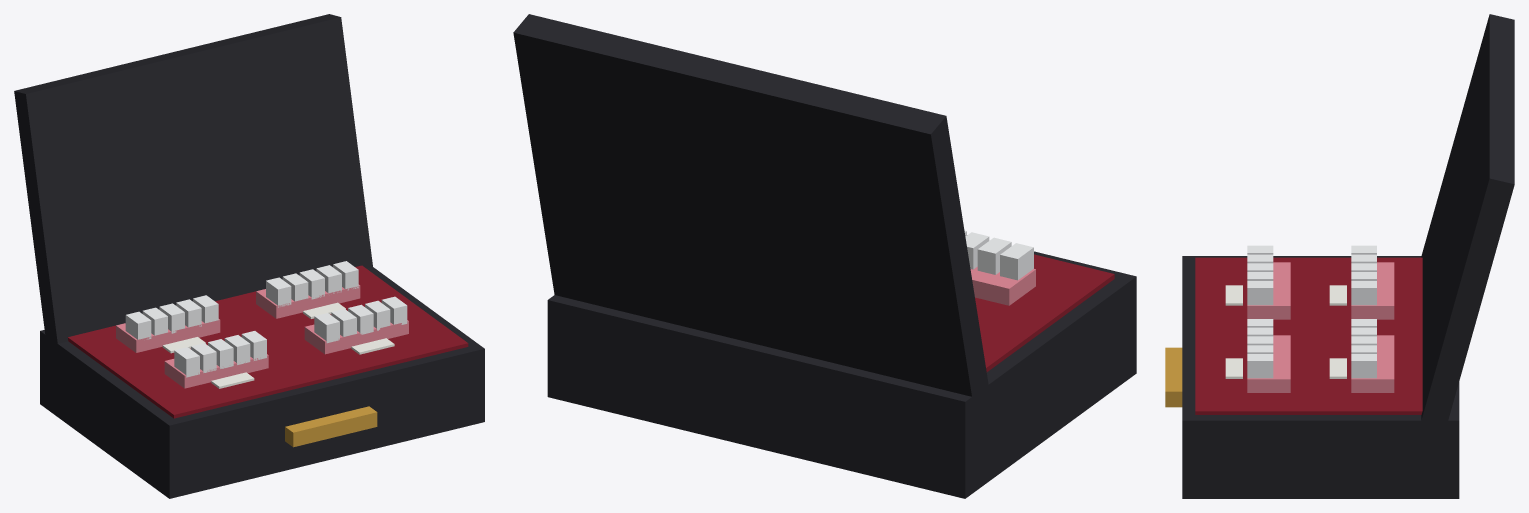
File: celebrity_dentures_case.glb
The picture shows the model from 3 angles, left to right: view 1: azimuth 30°, elevation 25°; view 2: azimuth 150°, elevation 25°; view 3: azimuth 270°, elevation 25°; orthographic projection. The views are drawn at different scales.
Parts seen in each view (by area): view 1: lid_case_black, case_case_black, velvet_velvet_red, dentures_dental_white, dentures_gum_pink (×4), handle_handle_gold; view 2: lid_case_black, case_case_black, velvet_velvet_red, dentures_dental_white, dentures_gum_pink; view 3: case_case_black, velvet_velvet_red, lid_case_black, dentures_dental_white, dentures_gum_pink (×4), handle_handle_gold.
Boxes of the visible parts, x1,y1,x2,y2 form: lid_case_black: (14,14,372,343); case_case_black: (40,267,484,498); velvet_velvet_red: (68,265,468,418); dentures_dental_white: (125,261,407,377); dentures_gum_pink (×4): (116,284,408,388); handle_handle_gold: (285,406,377,447); lid_case_black: (513,14,988,403); case_case_black: (547,251,1136,498); velvet_velvet_red: (975,254,1114,372); dentures_dental_white: (964,230,1033,280); dentures_gum_pink: (970,266,1035,305); case_case_black: (1182,256,1459,498); velvet_velvet_red: (1195,257,1422,414); lid_case_black: (1421,14,1514,425); dentures_dental_white: (1247,245,1376,378); dentures_gum_pink (×4): (1247,262,1394,392); handle_handle_gold: (1165,347,1182,407).
Bounding box in the file's own units: 0.45 × 0.4087 × 0.4041.
